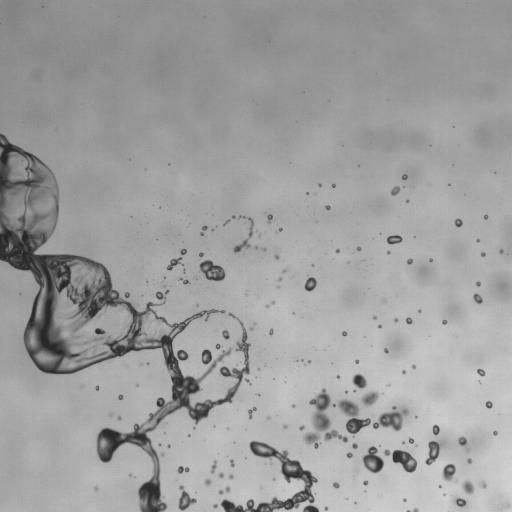droplet: (213, 440, 319, 511), (302, 388, 408, 448), (362, 446, 384, 473), (199, 260, 225, 281), (178, 485, 196, 511), (155, 285, 169, 305), (442, 463, 456, 481), (362, 391, 379, 405), (352, 374, 366, 388), (462, 480, 475, 494), (304, 277, 316, 291), (386, 235, 402, 244), (453, 496, 466, 506), (390, 186, 401, 195), (473, 293, 482, 303), (177, 466, 189, 473), (454, 218, 462, 227), (432, 424, 439, 434), (222, 330, 229, 339), (179, 278, 189, 284), (477, 369, 485, 376), (478, 481, 486, 488), (405, 317, 412, 324), (485, 401, 492, 408), (204, 478, 211, 485), (346, 452, 353, 458), (267, 214, 272, 222), (333, 482, 339, 488), (402, 174, 407, 180), (198, 252, 203, 258), (407, 258, 412, 264), (215, 344, 221, 349), (230, 459, 234, 466), (325, 205, 330, 210), (274, 254, 279, 259), (118, 394, 123, 399), (299, 425, 304, 430), (408, 438, 413, 443), (352, 443, 357, 448), (269, 329, 273, 335), (219, 472, 223, 478), (224, 220, 229, 224), (476, 281, 480, 286), (384, 348, 388, 353), (493, 430, 497, 435), (467, 458, 471, 463), (229, 474, 233, 479), (363, 480, 367, 485), (357, 246, 361, 250), (499, 249, 503, 253), (481, 252, 485, 256), (278, 277, 282, 281), (394, 318, 398, 322), (442, 320, 446, 324), (342, 331, 346, 335), (117, 416, 121, 420), (278, 228, 282, 231), (336, 249, 339, 253), (282, 269, 286, 272), (382, 299, 385, 303), (250, 326, 253, 330), (284, 424, 287, 428), (484, 215, 487, 218), (262, 247, 265, 250), (429, 258, 432, 261), (221, 310, 224, 313), (373, 316, 376, 319), (307, 360, 310, 363), (355, 360, 358, 363), (412, 365, 415, 368), (402, 370, 405, 373), (336, 375, 339, 378), (95, 386, 98, 389), (355, 469, 358, 472), (94, 487, 97, 490), (506, 504, 509, 507), (318, 184, 321, 186), (332, 184, 334, 187), (476, 239, 479, 241), (255, 246, 257, 249), (387, 251, 390, 253), (418, 310, 421, 312), (378, 325, 381, 327), (292, 404, 294, 407), (403, 499, 406, 501), (324, 507, 327, 509), (18, 172, 20, 174), (267, 416, 269, 418), (273, 478, 275, 480)
ligament: (0, 133, 251, 511), (383, 449, 417, 473), (233, 215, 254, 252), (166, 249, 186, 270), (425, 441, 441, 465), (458, 436, 469, 451), (218, 486, 230, 494), (248, 407, 256, 418), (210, 461, 217, 473), (265, 301, 274, 308), (201, 226, 207, 235), (407, 508, 418, 511)
